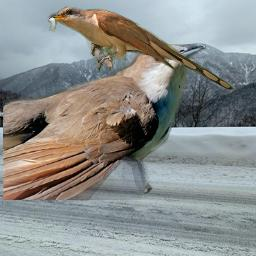Cuckoo: (3, 44, 206, 200), (44, 6, 234, 90)
